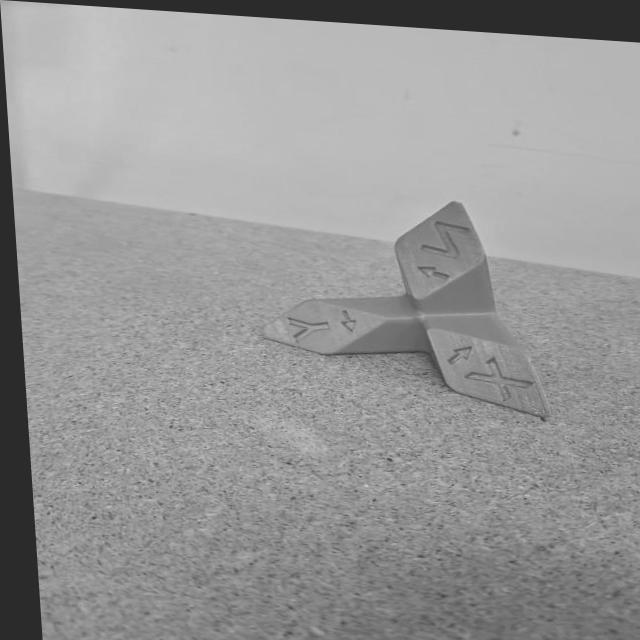eje: (242, 181, 559, 423)
